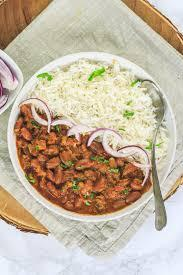rajma: (13, 122, 128, 228)
rice: (62, 77, 160, 143)
